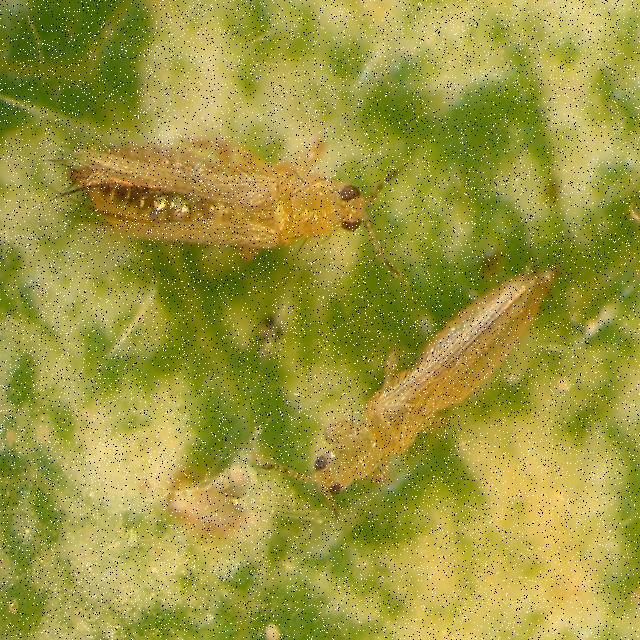Thrips: (293, 196, 591, 533), (53, 100, 425, 298)
